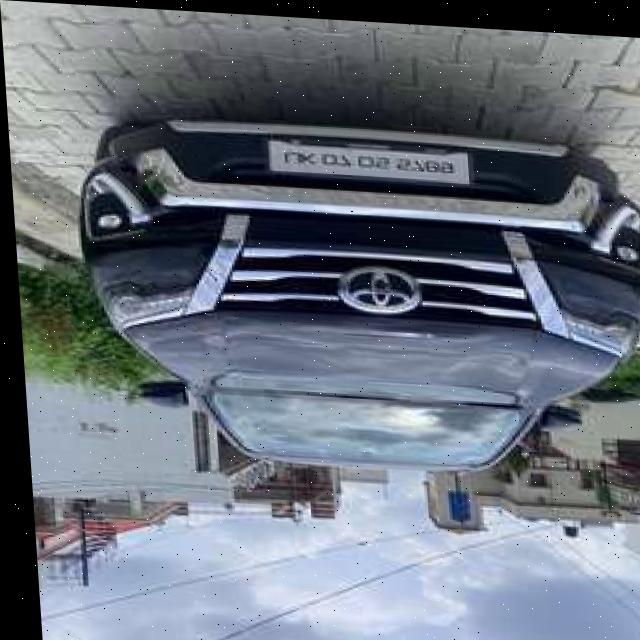plate: (261, 132, 472, 180)
